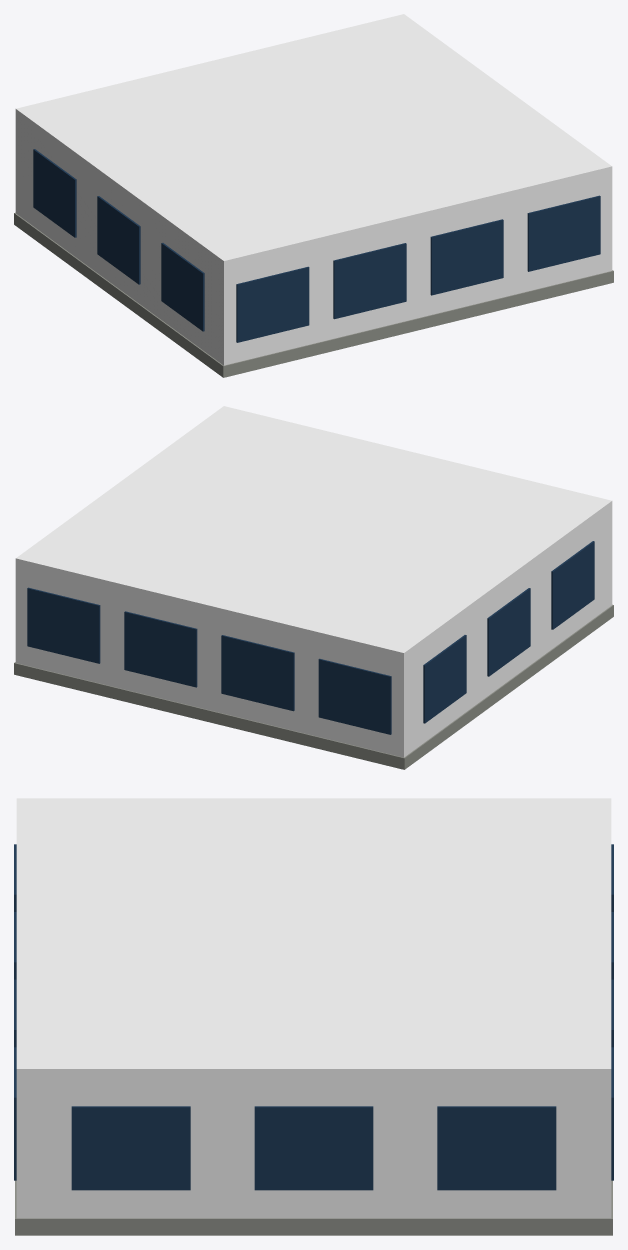
Rendered from mashup-main-mid-prebuilt.fbx.
The picture shows the model from 3 angles, top to bottom: view 1: azimuth 30°, elevation 25°; view 2: azimuth 150°, elevation 25°; view 3: azimuth 270°, elevation 25°; orthographic projection. The views are drawn at different scales.
Visible parts, largest first — view 1: a1052.MainMid; view 2: a1052.MainMid; view 3: a1052.MainMid.
Boxes of the visible parts, x1,y1,x2,y2 form: a1052.MainMid: (14, 14, 613, 377); a1052.MainMid: (14, 406, 613, 769); a1052.MainMid: (14, 798, 613, 1235).
Size of the model in its own units: 14.12 by 4 by 13.12.
